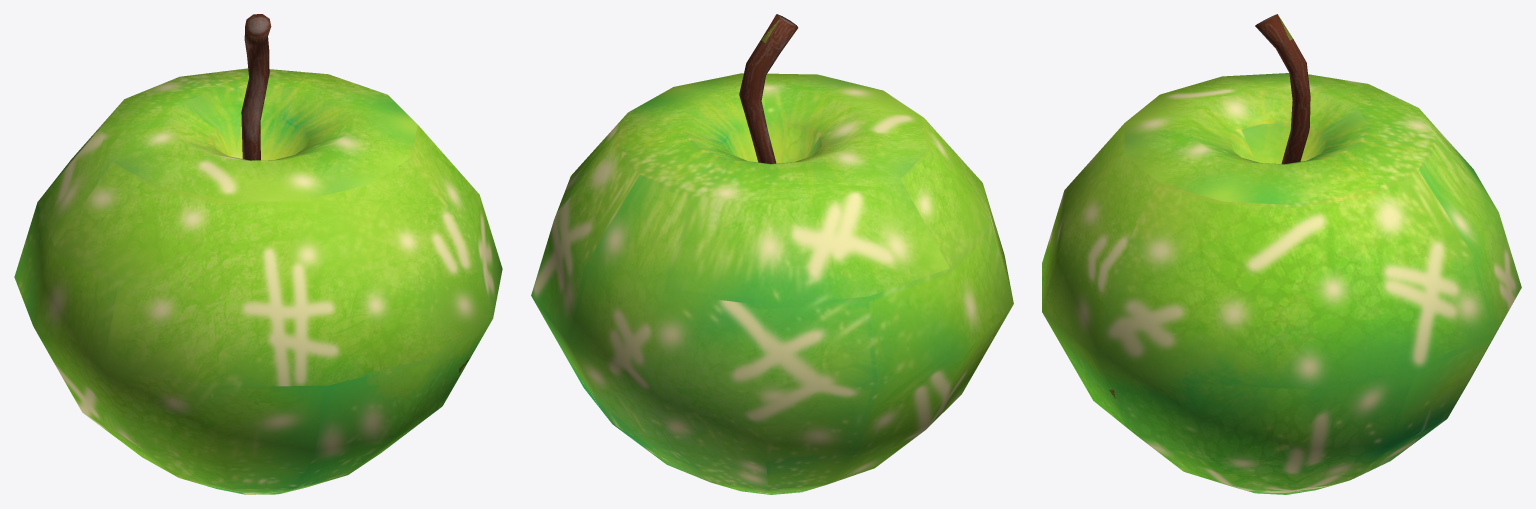
File: 22_ProjectileLight.fbx
3 renders of one model, left to right at view 1: azimuth 30°, elevation 25°; view 2: azimuth 150°, elevation 25°; view 3: azimuth 270°, elevation 25°, orthographic.
Visible parts, largest first — view 1: AppleGreen; view 2: AppleGreen; view 3: AppleGreen.
Part boxes in pixels (bbox=[...]): AppleGreen: bbox=[14, 14, 502, 494]; AppleGreen: bbox=[531, 14, 1013, 494]; AppleGreen: bbox=[1042, 14, 1521, 494].
Bounding box in the file's own units: 39.14 × 40.23 × 38.85.
Materials: 1 (1 with a texture image).
